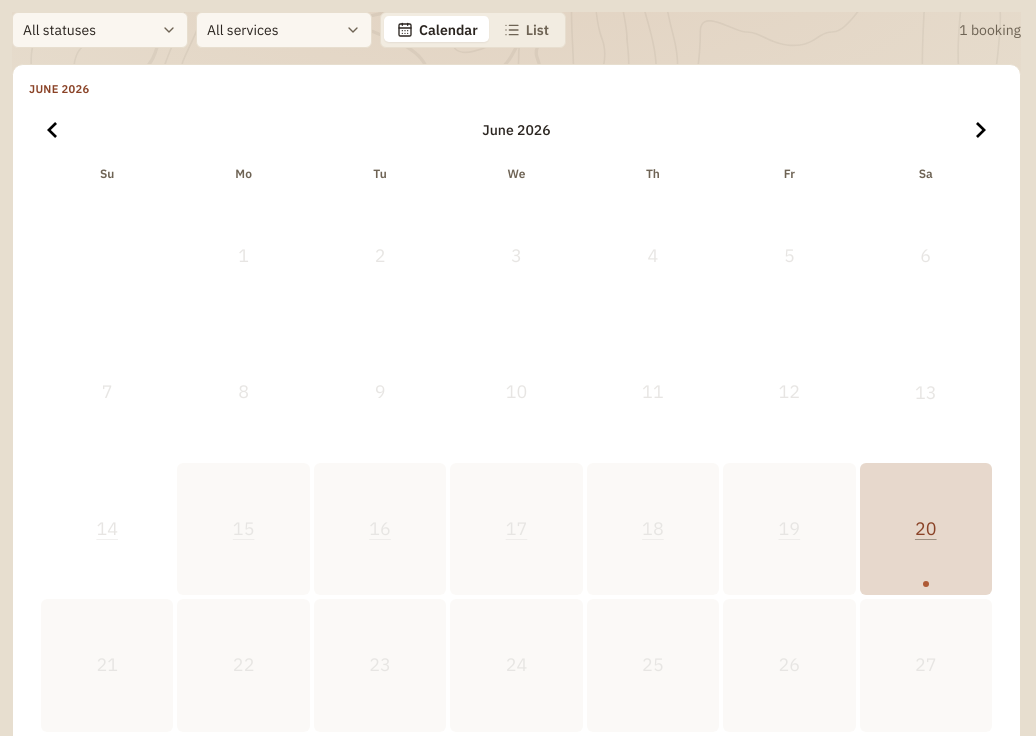
Test: AccountBookingsClient booking row › shows the stored breakdown lines, so an applied discount is visible
Click the button "List": (526, 30) [492,17,561,43]
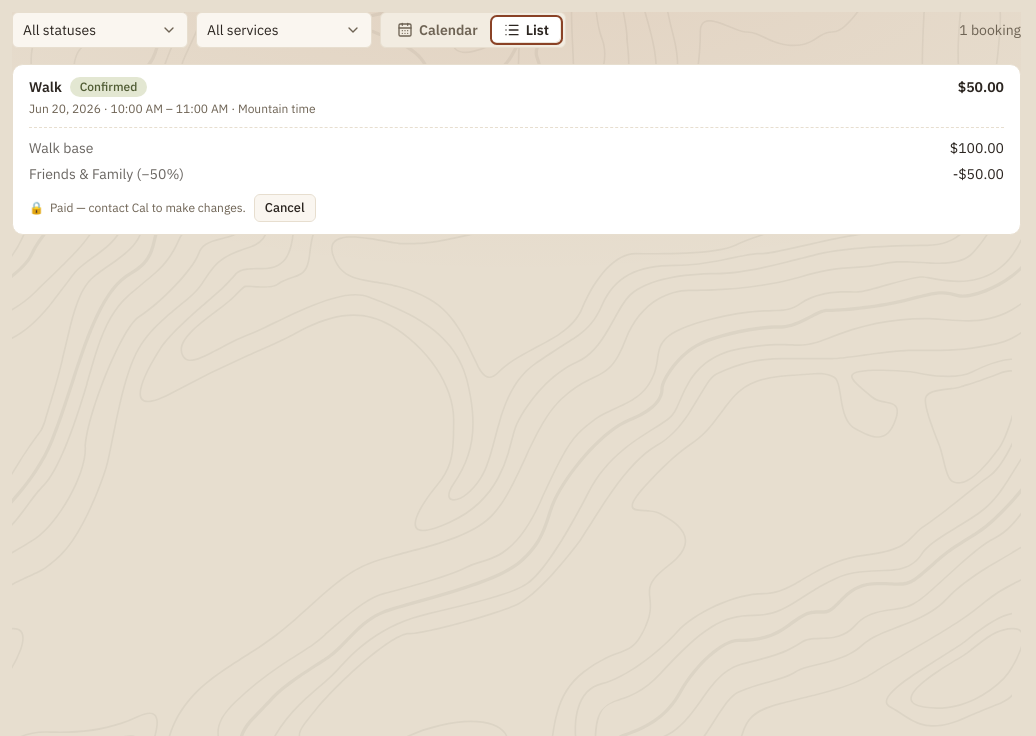
Now the text "Friends & Family (−50%)" is shown, box [29,164,184,184]
Now the text "-$50.00" is shown, box [953,164,1004,184]
